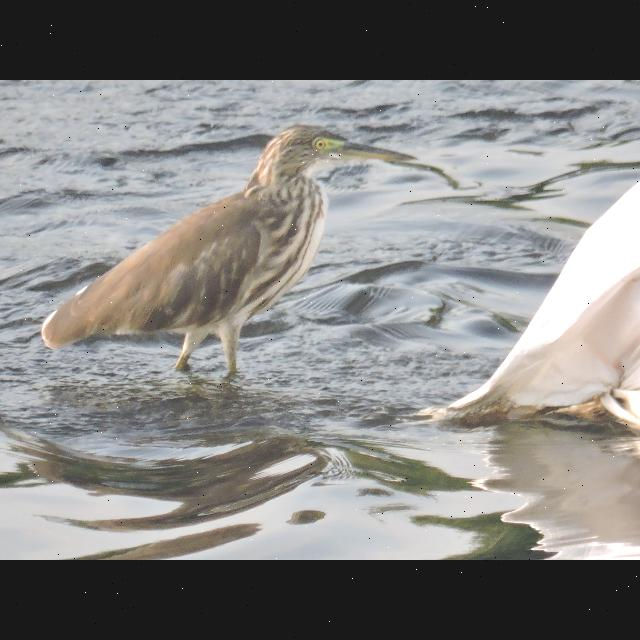heron: (34, 119, 418, 377)
